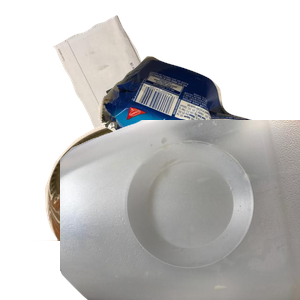glass: (22, 120, 233, 300)
paper: (51, 13, 230, 186)
plastic: (60, 120, 300, 300)
trash: (95, 53, 300, 195)
